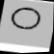no answer: (8, 4, 42, 33)
